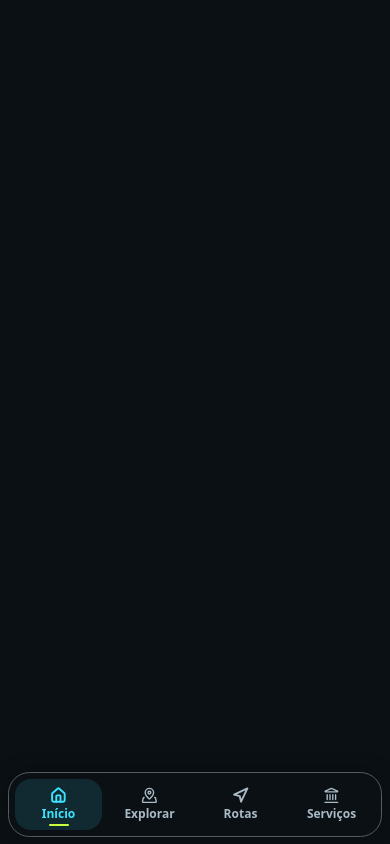
Test case: mobile navigation › does not announce Explore as the current page just because its dialog is open
This screenshot has width=390, height=844.
What coordinates should you click on to do the following:
click the button "Explorar"
I would click on:
 (150, 804)
Its box is [106, 779, 193, 830].
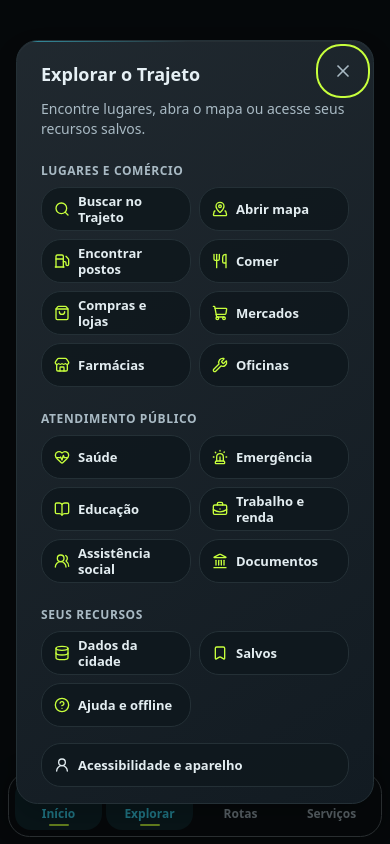
Expected: the button "Explorar" is expanded, [106, 779, 193, 830]
